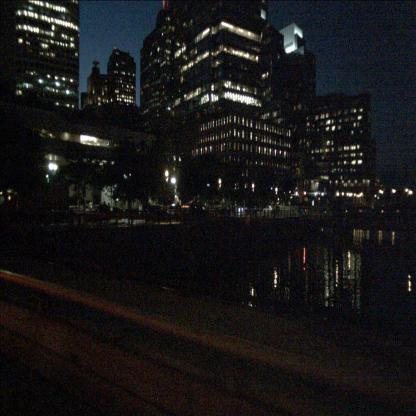vehicle-car: (146, 206, 170, 222), (167, 204, 186, 222), (262, 205, 276, 214), (235, 206, 243, 212)
